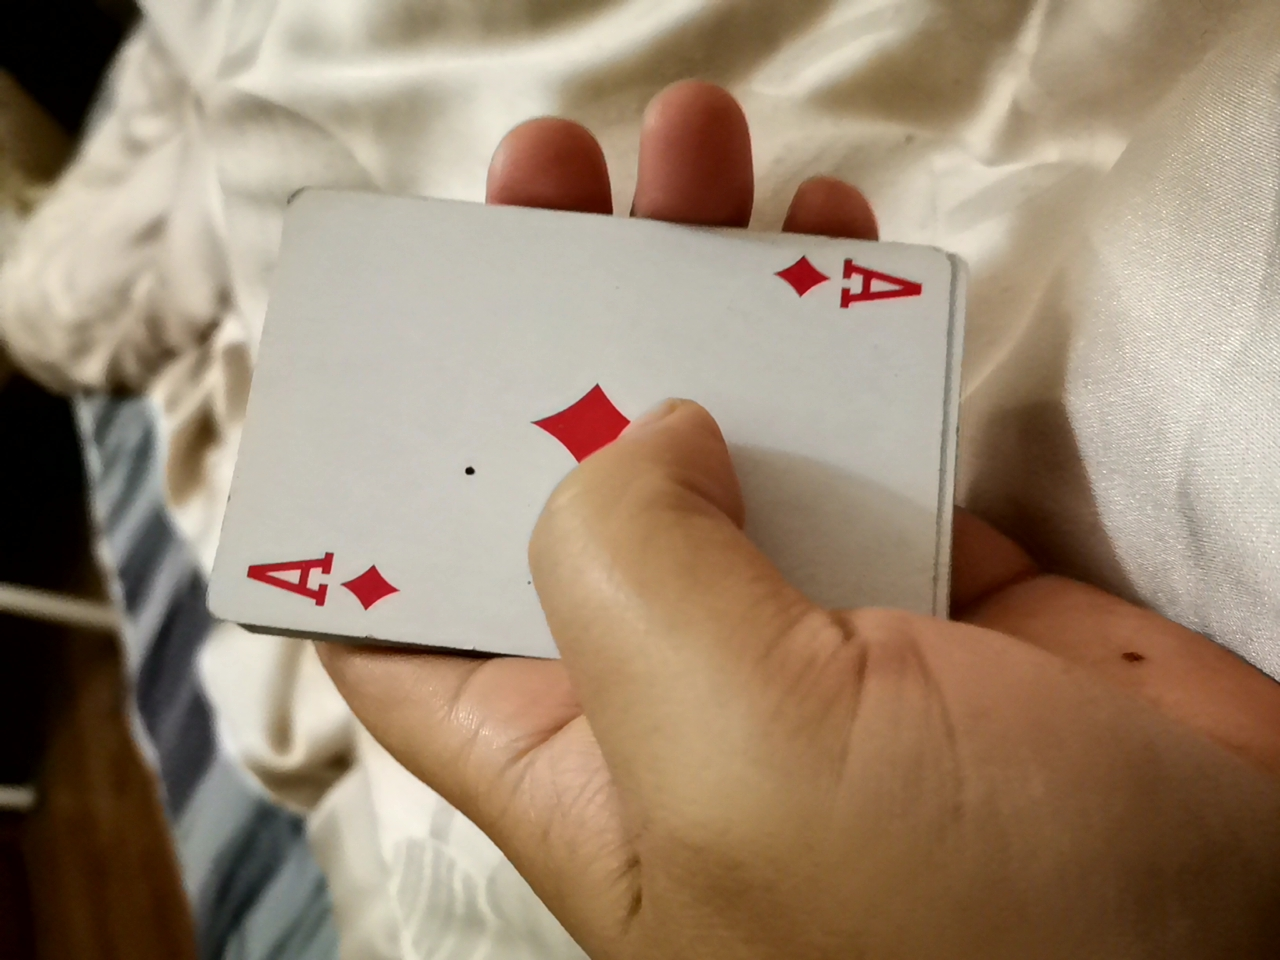fk a: (168, 183, 984, 680)
